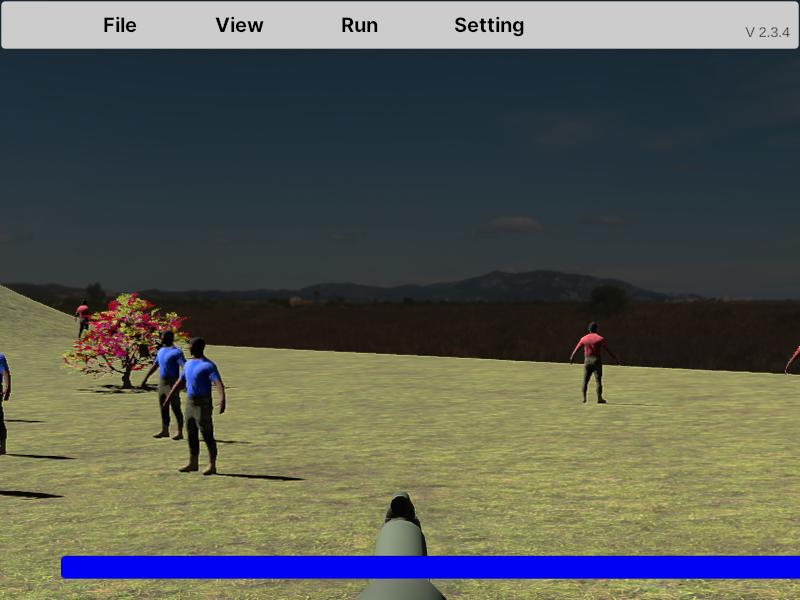Human: (163, 335, 226, 477), (141, 330, 192, 438), (570, 322, 619, 404), (0, 331, 11, 459), (0, 327, 10, 463), (786, 319, 800, 414)
